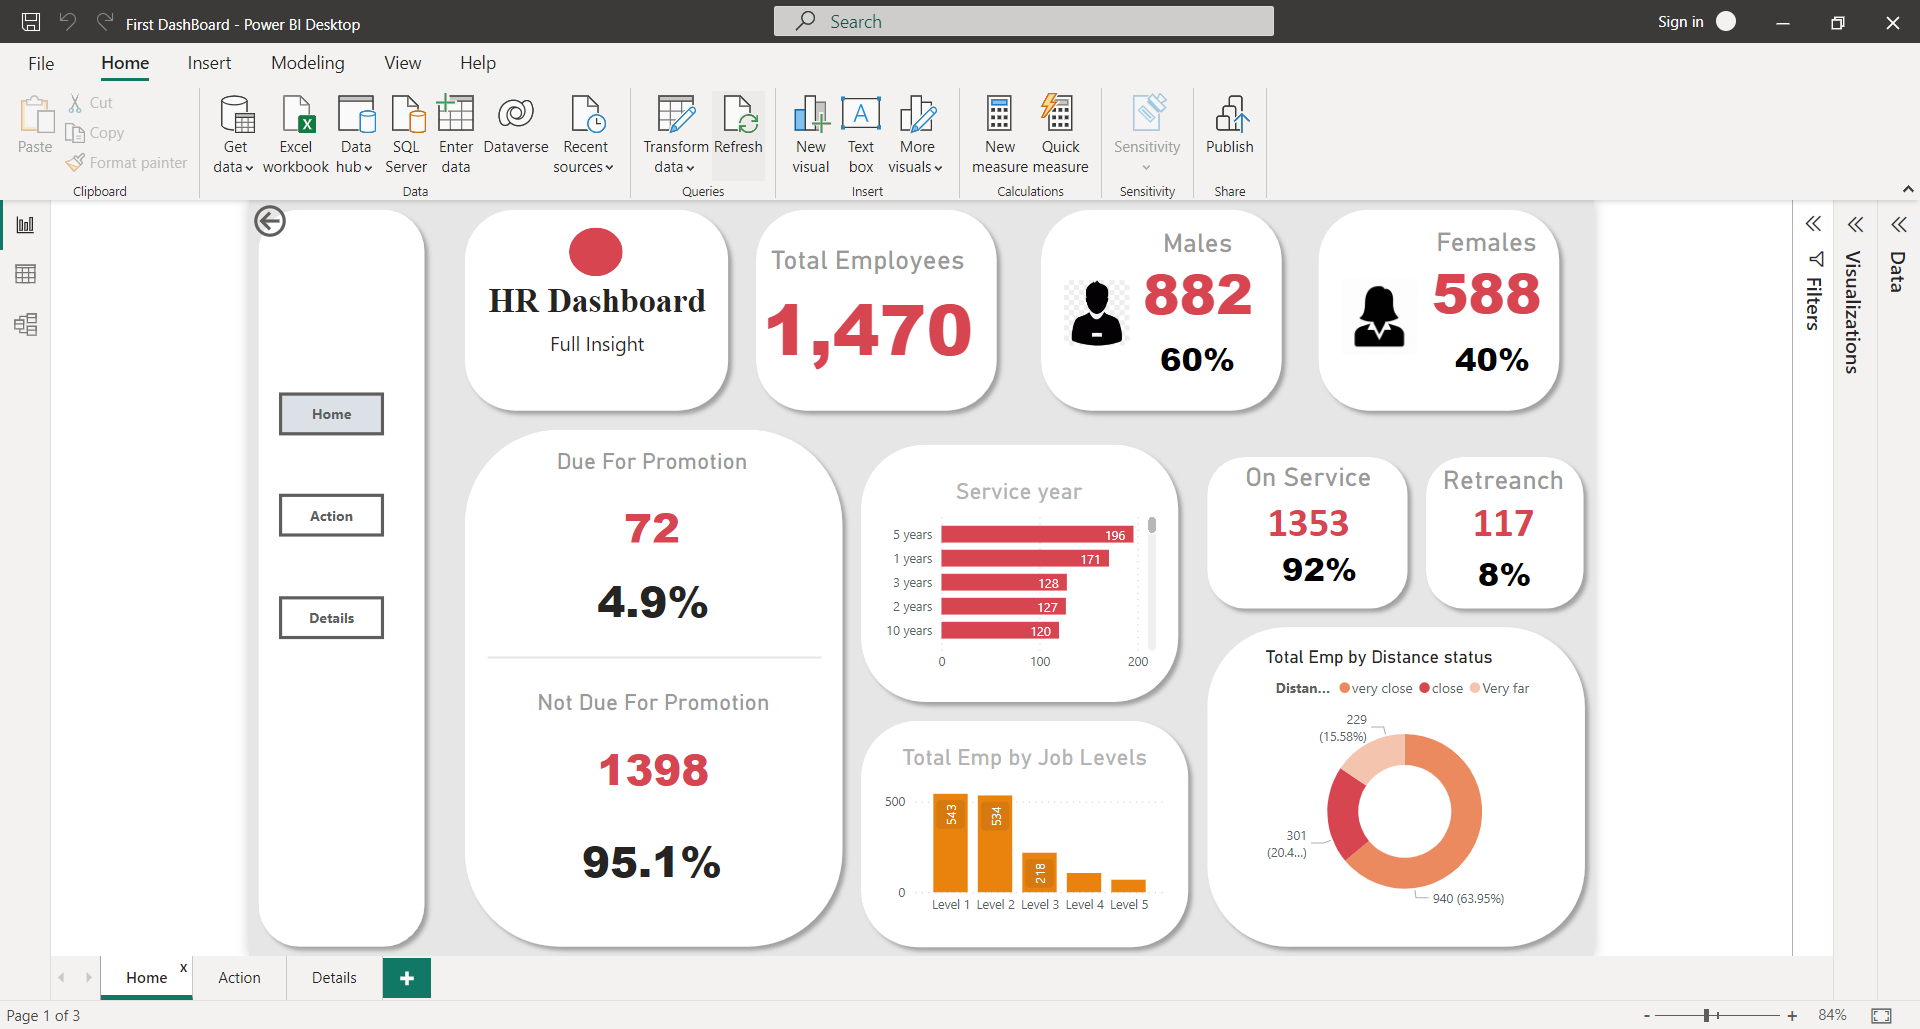

The page's visual inventory and layout, read from the dashboard file:
{"tool":"powerbi","page":{"name":"Home","canvas":[1280,720],"ordinal":0},"visuals":[{"type":"shape","box":[0,0,176.1,720],"z":0},{"type":"shape","box":[1009.2,0,247.5,209.5],"z":1000},{"type":"shape","box":[745,0,247.5,209.5],"z":2000},{"type":"shape","box":[196.4,0,269,209.5],"z":3000},{"type":"shape","box":[473.7,0,247.5,209.5],"z":4000},{"type":"shape","box":[196.4,209.5,377.3,510.5],"z":5000},{"type":"shape","box":[573.6,223.7,320.1,263],"z":6000},{"type":"shape","box":[573.6,486.7,329.7,233.3],"z":7000},{"type":"shape","box":[903.2,235,208.8,162.3],"z":8000},{"type":"shape","box":[1112,235,168.2,162.3],"z":9000},{"type":"shape","box":[903.3,397.5,377.3,322.5],"z":10000},{"type":"textbox","box":[213,72.6,236.8,64.3],"z":11000},{"type":"textbox","box":[213,119,236.8,54.7],"z":12000},{"type":"shape","box":[304.7,26.2,51.2,46.4],"z":13000},{"type":"card","title":"Total Employees","fields":{"Values":["All Measure.Total Emp"]},"box":[482,42.8,214.2,123.8],"z":14000},{"type":"card","title":" Males","fields":{"Values":["All Measure.Male"]},"box":[843.8,26.2,119,94],"z":15000},{"type":"card","title":" Males","fields":{"Values":["All Measure.% male"]},"box":[830.7,104.7,145.2,94],"z":16000},{"type":"card","title":" Females","fields":{"Values":["All Measure.Female"]},"box":[1118.7,25,119,94],"z":17000},{"type":"card","title":" Males","fields":{"Values":["All Measure.% female"]},"box":[1111.5,104.7,145.2,94],"z":18000},{"type":"image","box":[1033,69,85.7,83.3],"z":19000},{"type":"image","box":[771.2,69,72.6,77.4],"z":20000},{"type":"card","title":"Due For Promotion","fields":{"Values":["All Measure.Due to Pormotion"]},"box":[230.9,235.6,305.9,128.5],"z":21000},{"type":"card","fields":{"Values":["All Measure.% Due to Promotion"]},"box":[232.1,326.1,305.9,109.5],"z":22000},{"type":"card","title":"Not Due For Promotion","fields":{"Values":["All Measure.Not Due to Pormotion"]},"box":[232.1,465.3,305.9,128.5],"z":23000},{"type":"card","fields":{"Values":["All Measure.% Not Due"]},"box":[230.9,573.6,305.9,109.5],"z":24000},{"type":"shape","box":[227.3,289.2,317.8,292.8],"z":25000},{"type":"barChart","title":"Service year","fields":{"Category":["HR Analytics Data.Service year"],"Y":["All Measure.Total Emp"]},"box":[597.4,264.2,271.3,194],"z":26000},{"type":"actionButton","box":[0,0,100,40],"z":27000},{"type":"columnChart","fields":{"Category":["HR Analytics Data.Job Levels"],"Y":["All Measure.Total Emp"]},"box":[599.8,517.7,277.3,171.4],"z":28000},{"type":"card","title":"On Service","fields":{"Values":["All Measure.On Service"]},"box":[925.9,248.2,165.8,82.3],"z":29000},{"type":"card","title":" Males","fields":{"Values":["All Measure.% on service"]},"box":[947.4,304.3,144.4,93.1],"z":30000},{"type":"card","title":"Retreanch","fields":{"Values":["All Measure.will be retreanch"]},"box":[1121.6,251.8,146.8,76.4],"z":31000},{"type":"card","title":" Males","fields":{"Values":["All Measure.% will be retreanch"]},"box":[1123.9,309,144.4,93.1],"z":32000},{"type":"donutChart","fields":{"Category":["HR Analytics Data.Distance status"],"Y":["All Measure.Total Emp"]},"box":[962.9,424.8,275.6,266.1],"z":33000},{"type":"actionButton","box":[28.6,183.3,100,40.5],"z":34000},{"type":"actionButton","box":[28.6,279.7,100,40.5],"z":35000},{"type":"actionButton","box":[28.6,377.3,100,40.5],"z":36000}]}

Visuals, with their boxes on the page's 1280x720 design canvas (x1, y1, x2, y2). These are canvas units, not pixel positions in the 1920x1029 screenshot, which may show the page scaled, cropped or inside an application window:
shape: Rect(0, 0, 176, 720)
shape: Rect(1009, 0, 1257, 210)
shape: Rect(745, 0, 992, 210)
shape: Rect(196, 0, 465, 210)
shape: Rect(474, 0, 721, 210)
shape: Rect(196, 210, 574, 720)
shape: Rect(574, 224, 894, 487)
shape: Rect(574, 487, 903, 720)
shape: Rect(903, 235, 1112, 397)
shape: Rect(1112, 235, 1280, 397)
shape: Rect(903, 398, 1281, 720)
textbox: Rect(213, 73, 450, 137)
textbox: Rect(213, 119, 450, 174)
shape: Rect(305, 26, 356, 73)
"Total Employees" card: Rect(482, 43, 696, 167)
" Males" card: Rect(844, 26, 963, 120)
" Males" card: Rect(831, 105, 976, 199)
" Females" card: Rect(1119, 25, 1238, 119)
" Males" card: Rect(1112, 105, 1257, 199)
image: Rect(1033, 69, 1119, 152)
image: Rect(771, 69, 844, 146)
"Due For Promotion" card: Rect(231, 236, 537, 364)
card - All Measure.% Due to Promotion: Rect(232, 326, 538, 436)
"Not Due For Promotion" card: Rect(232, 465, 538, 594)
card - All Measure.% Not Due: Rect(231, 574, 537, 683)
shape: Rect(227, 289, 545, 582)
"Service year" barChart: Rect(597, 264, 869, 458)
actionButton: Rect(0, 0, 100, 40)
columnChart - HR Analytics Data.Job Levels x All Measure.Total Emp: Rect(600, 518, 877, 689)
"On Service" card: Rect(926, 248, 1092, 330)
" Males" card: Rect(947, 304, 1092, 397)
"Retreanch" card: Rect(1122, 252, 1268, 328)
" Males" card: Rect(1124, 309, 1268, 402)
donutChart - HR Analytics Data.Distance status x All Measure.Total Emp: Rect(963, 425, 1238, 691)
actionButton: Rect(29, 183, 129, 224)
actionButton: Rect(29, 280, 129, 320)
actionButton: Rect(29, 377, 129, 418)
